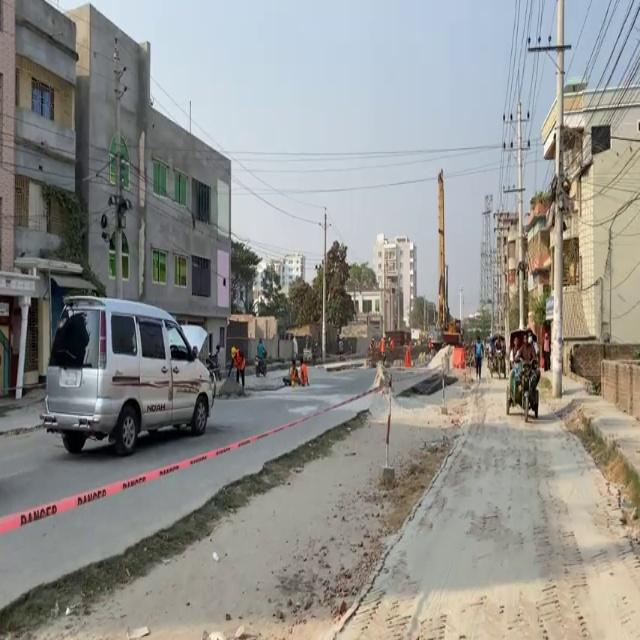Broken-road: (38, 293, 216, 456)
Construction-barrier: (0, 372, 383, 536), (557, 393, 639, 523)
Fallen-tree: (505, 355, 541, 422), (204, 344, 222, 382), (253, 354, 268, 377)
Light-pole: (550, 0, 566, 399)
Pothole: (330, 354, 639, 639)
Traffic-cone: (434, 168, 464, 348)
